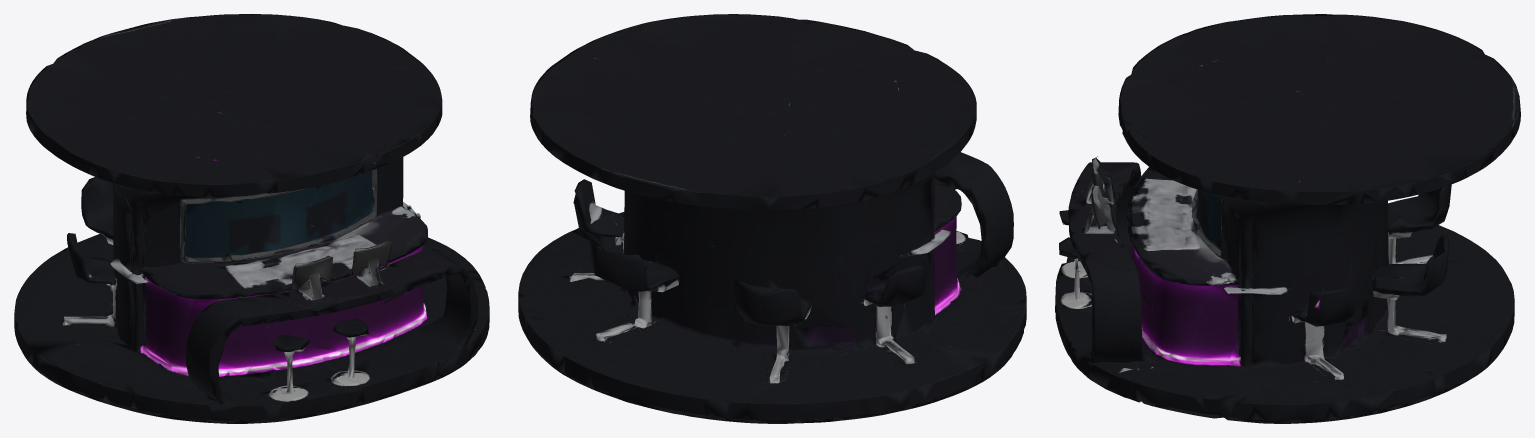
File: co_desk.glb
3 views of the same model, side by side, from view 1: azimuth 30°, elevation 25°; view 2: azimuth 150°, elevation 25°; view 3: azimuth 270°, elevation 25° (orthographic). The views are drawn at different scales.
Bounding box in the file's own units: 1.9 × 0.9248 × 1.79.
1 material, 1 textured.
